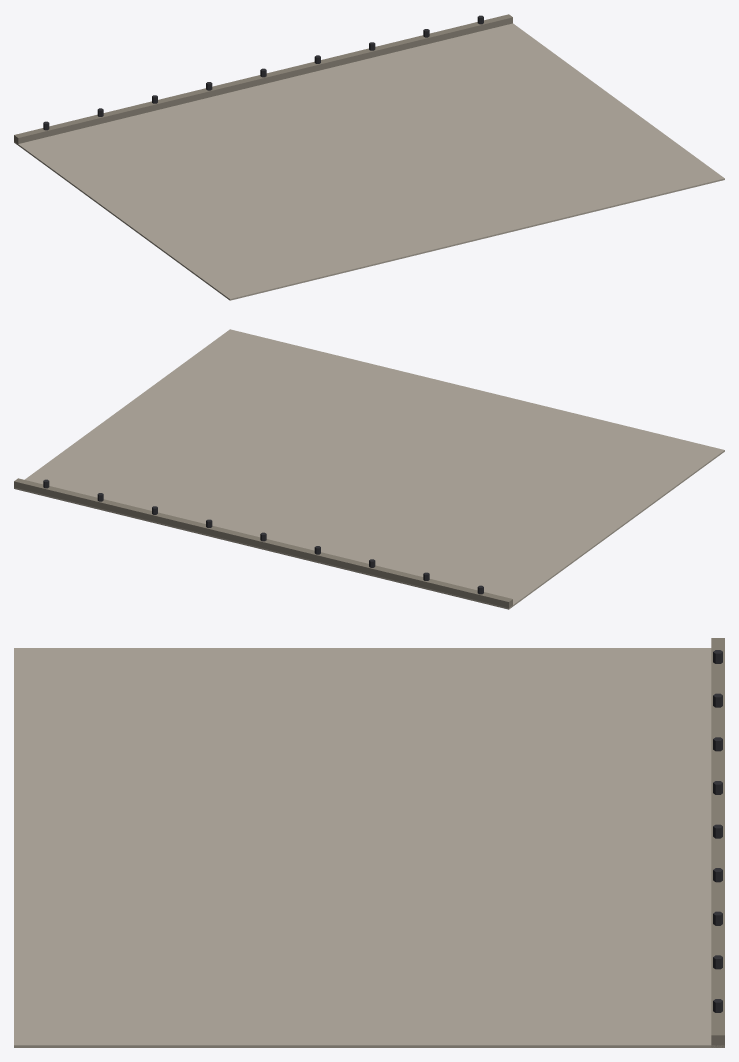
Rendered from quay.obj.
3 renders of one model, top to bottom at view 1: azimuth 30°, elevation 25°; view 2: azimuth 150°, elevation 25°; view 3: azimuth 270°, elevation 25°, orthographic. The views are drawn at different scales.
Bounding box in the file's own units: 41 × 1.1 × 31.
